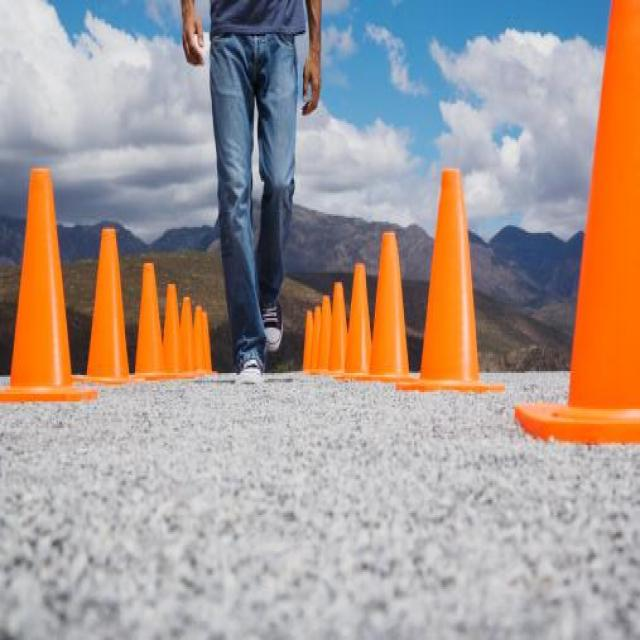Cone: (516, 4, 640, 445), (399, 166, 505, 394), (2, 168, 96, 402), (76, 226, 140, 387), (358, 231, 421, 384), (128, 259, 172, 377), (337, 263, 374, 379), (160, 282, 191, 379), (330, 280, 350, 377), (182, 297, 198, 379)
